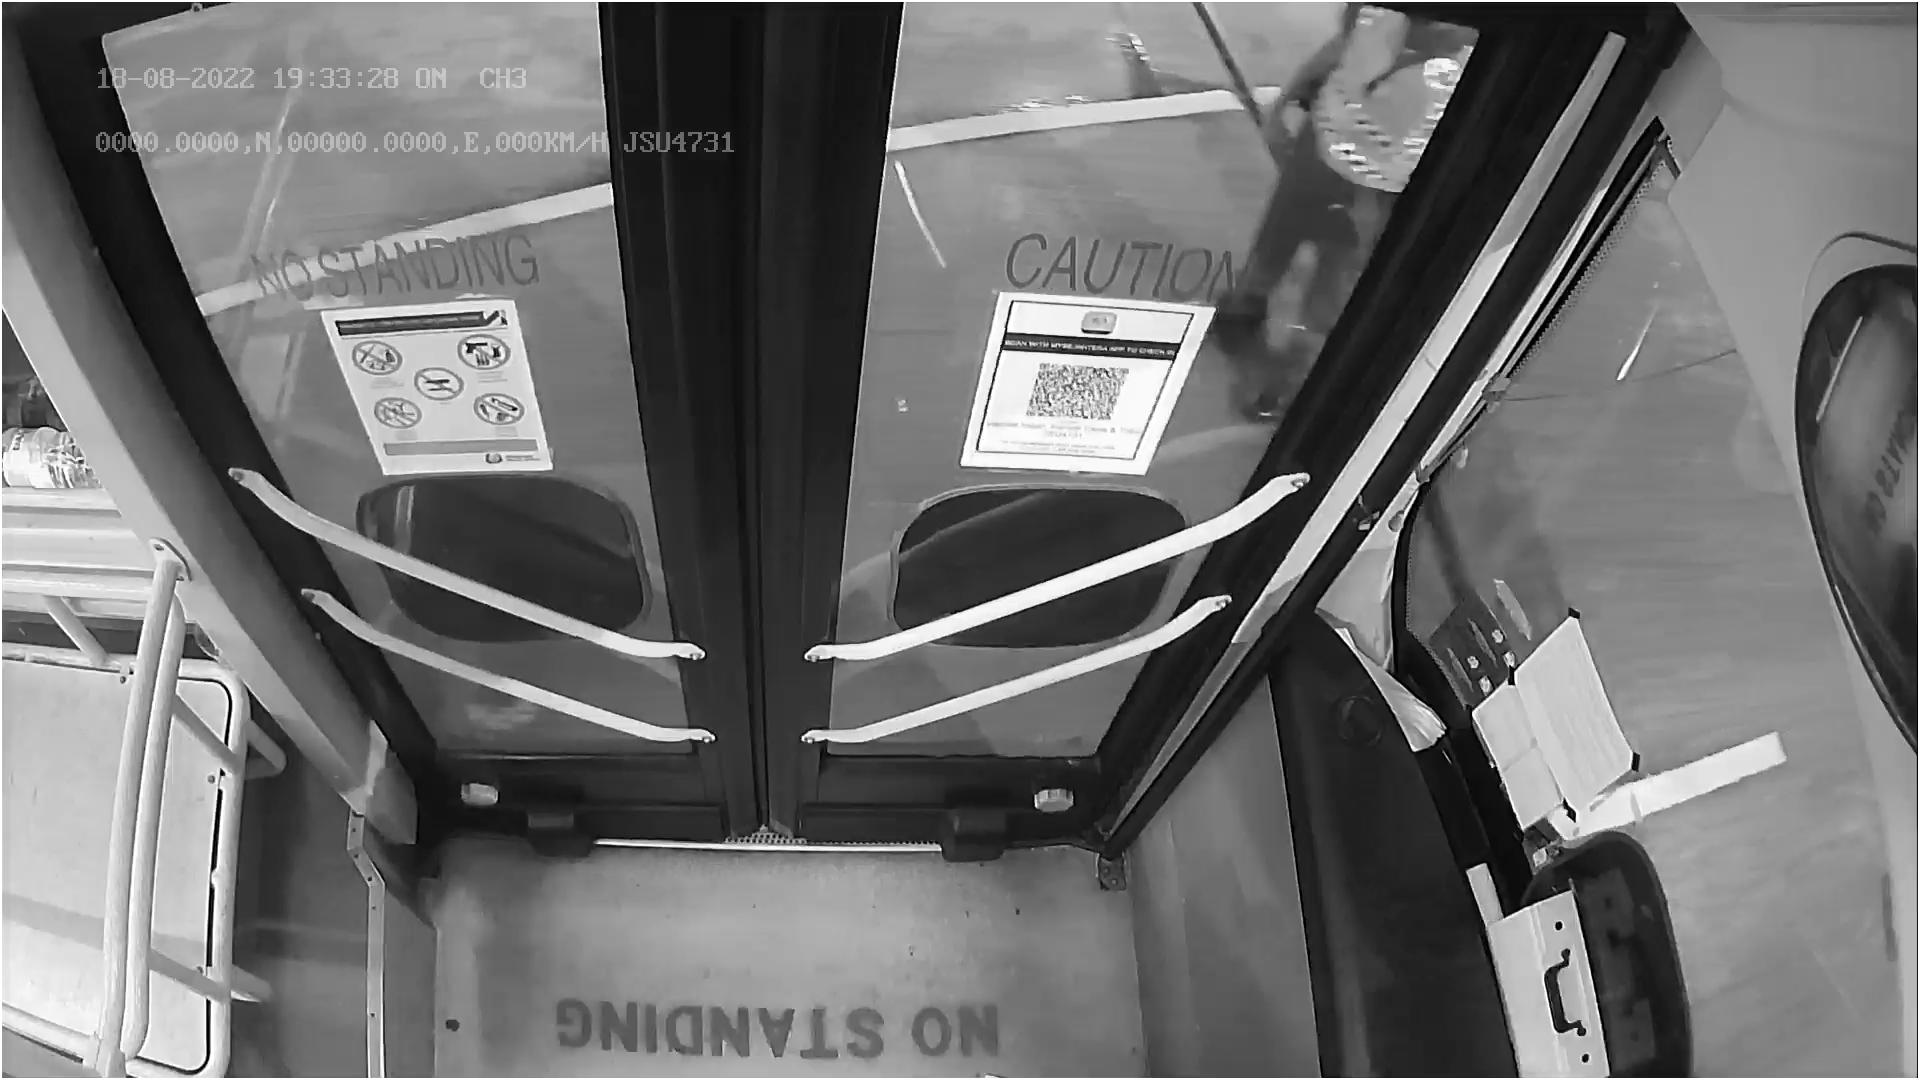close: (125, 0, 1455, 162)
